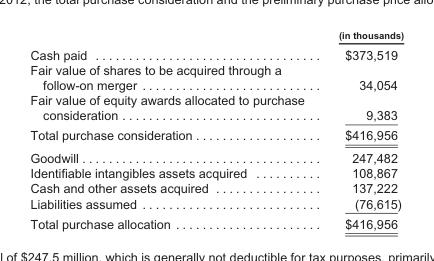table: (29, 29, 403, 230)
table column: (29, 29, 320, 230), (320, 29, 403, 230)
table column header: (29, 29, 403, 43)
table row: (29, 91, 403, 124), (29, 61, 403, 91), (29, 124, 403, 146), (29, 146, 403, 165), (29, 43, 403, 61), (29, 195, 403, 213), (29, 213, 403, 230), (29, 165, 403, 180), (29, 180, 403, 195), (29, 29, 403, 43)
